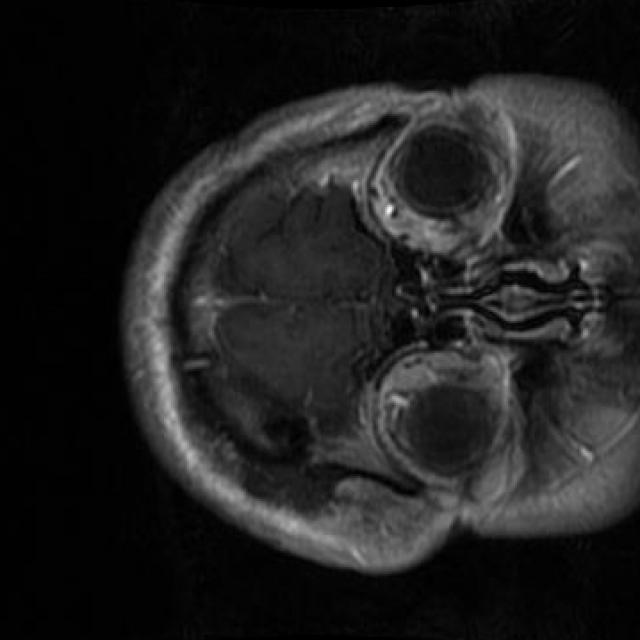glioma: (258, 392, 312, 456)
